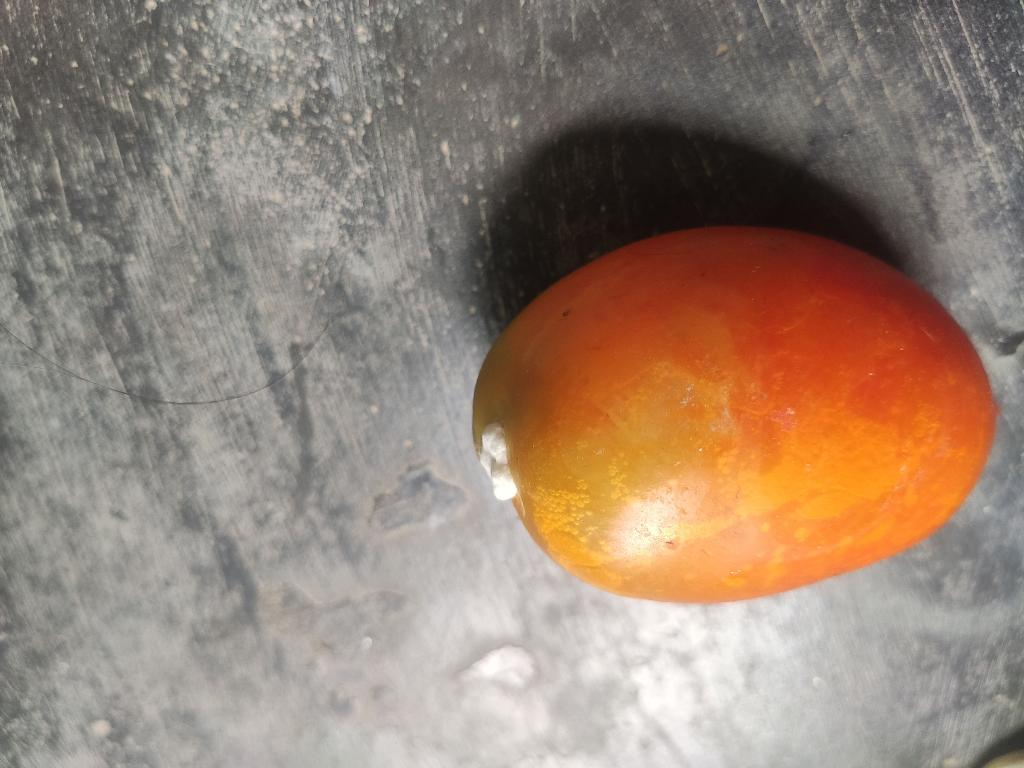rot_mold_decay: (479, 423, 517, 500)
tomato: (473, 228, 995, 602)
